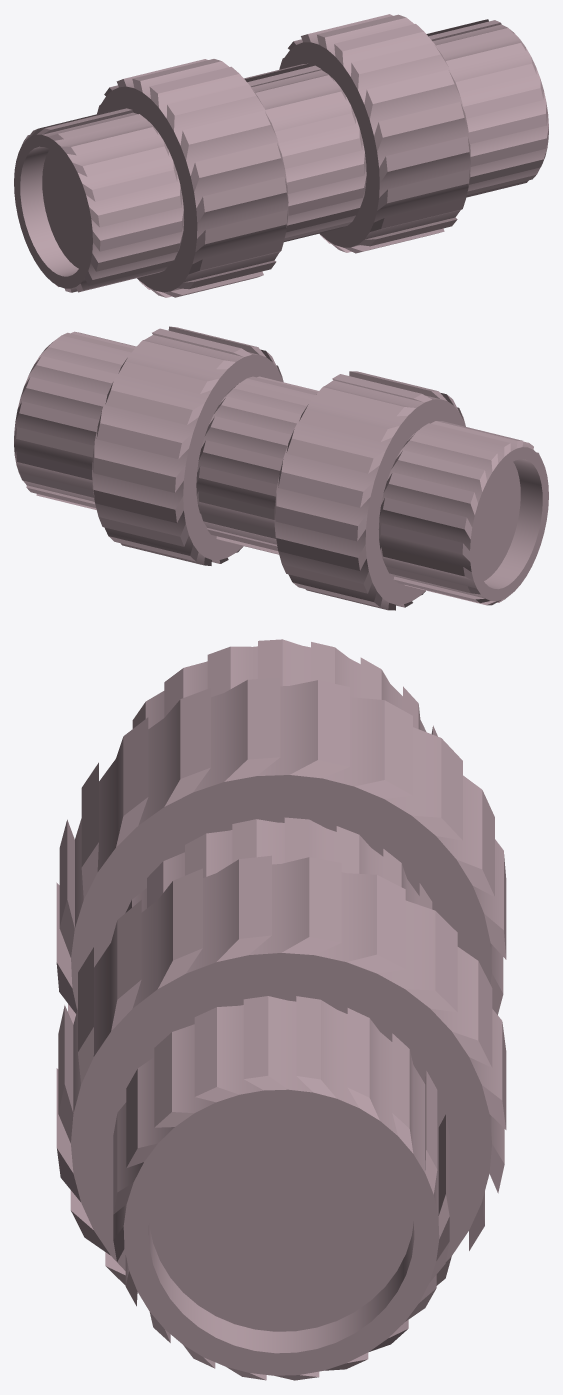
File: Cylinder_008_geometry-panic-factory_001.fbx
The picture shows the model from 3 angles, top to bottom: view 1: azimuth 30°, elevation 25°; view 2: azimuth 150°, elevation 25°; view 3: azimuth 270°, elevation 25°; orthographic projection. The views are drawn at different scales.
Visible parts, largest first — view 1: Cylinder.008.geometry-panic-factory.001; view 2: Cylinder.008.geometry-panic-factory.001; view 3: Cylinder.008.geometry-panic-factory.001.
Boxes of the visible parts, x1,y1,x2,y2 form: Cylinder.008.geometry-panic-factory.001: (14, 14, 548, 297); Cylinder.008.geometry-panic-factory.001: (14, 326, 548, 610); Cylinder.008.geometry-panic-factory.001: (56, 639, 506, 1380).
Size of the model in its own units: 2.34 by 0.9999 by 0.9999.
